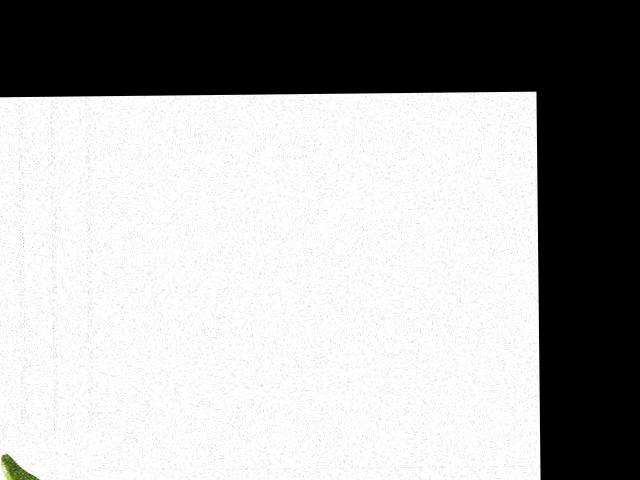cucumber: (1, 452, 97, 480)
